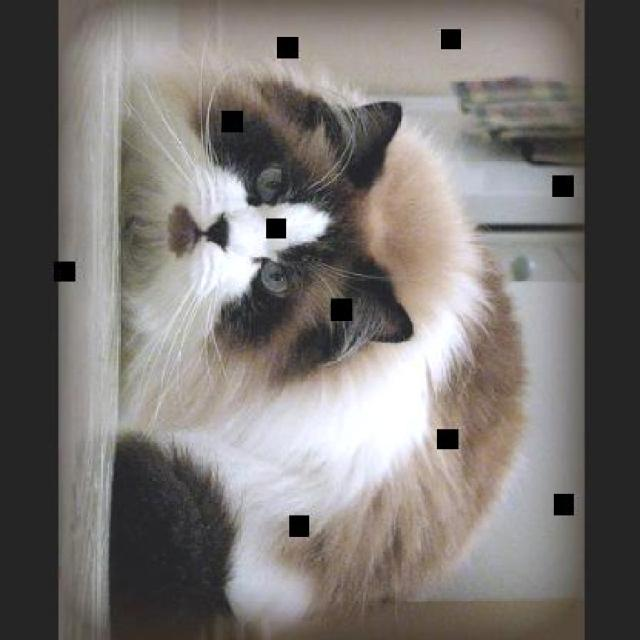unauthorized: (86, 26, 529, 639)
